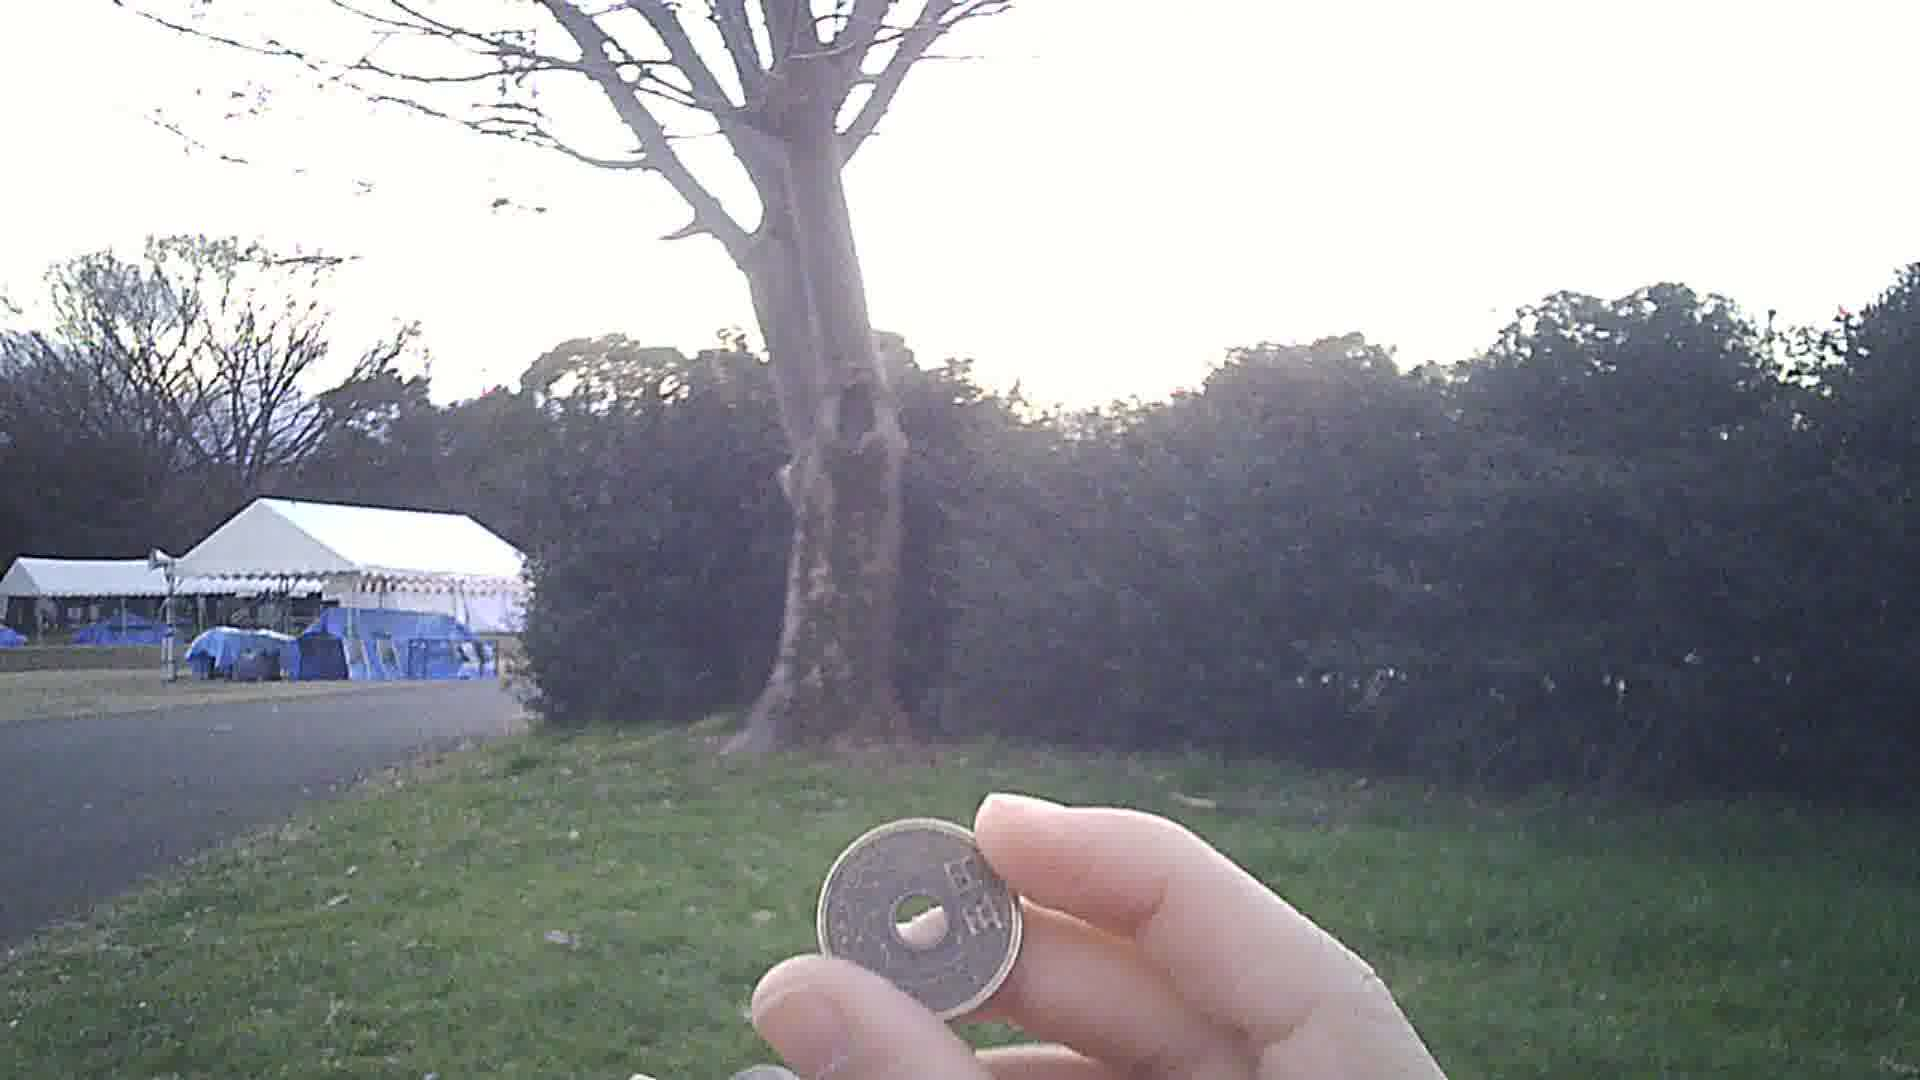5 Yen: (810, 806, 1036, 1029)
